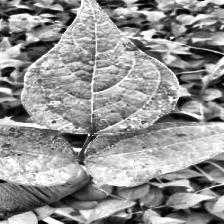ALS: (0, 124, 80, 179), (37, 106, 174, 136), (134, 130, 224, 173)
